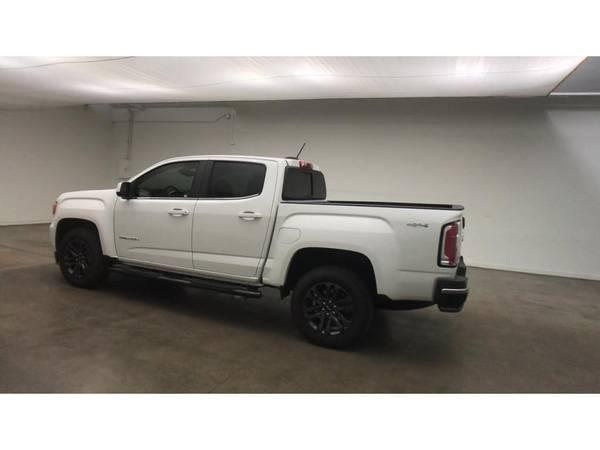Front_Fender: (50, 190, 119, 265)
Front_Left_Door: (113, 197, 197, 275)
Front_Left_Window: (118, 160, 209, 198)
Left_Taillight: (438, 218, 462, 265)
Rear_Bumper: (433, 257, 468, 315)
Rear_Fender: (258, 202, 459, 304)
Rear_Left_Door: (191, 193, 278, 286)
Rear_Left_Window: (198, 159, 266, 197)
Rear_Windshield: (275, 160, 327, 203)
Roof: (119, 153, 315, 200)
Wheel: (291, 269, 377, 353), (56, 226, 109, 287)
